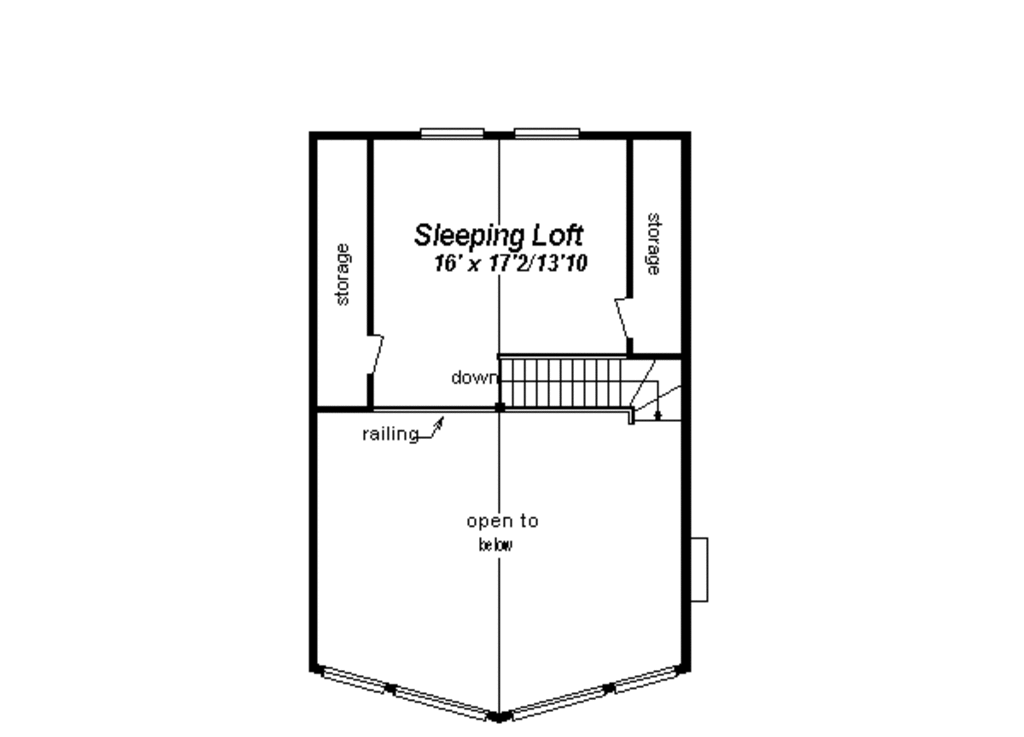door: (361, 329, 393, 377), (613, 292, 638, 342)
stairs: (501, 357, 681, 426)
window: (419, 124, 488, 143), (517, 126, 577, 142)
